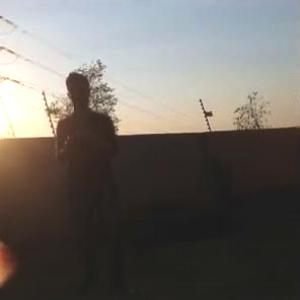follow: (54, 65, 135, 287)
